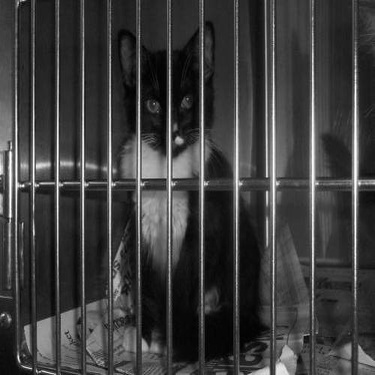cat: (85, 18, 280, 363), (291, 113, 373, 275)
